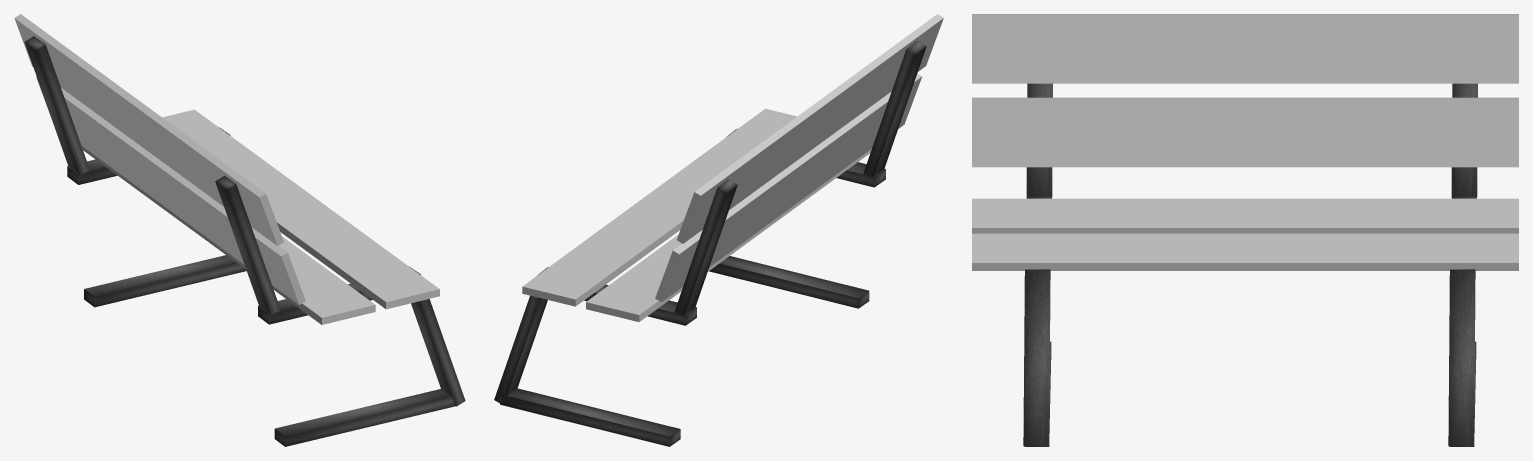
The model's file is Bench.fbx.
The picture shows the model from 3 angles, left to right: view 1: azimuth 30°, elevation 25°; view 2: azimuth 150°, elevation 25°; view 3: azimuth 270°, elevation 25°; orthographic projection. The views are drawn at different scales.
Visible parts, largest first — view 1: Cube_2, Cube__3_, Cube__2_, Cube__1__2, Cube, Cube_1, Cube__5_, Cube__5__1, Cube__1_, Cube__4_, Cube__4__1; view 2: Cube_2, Cube__3_, Cube__2_, Cube__1__2, Cube_1, Cube, Cube__5_, Cube__5__1, Cube__1__1, Cube__4__1, Cube__4_; view 3: Cube__2_, Cube__3_, Cube_2, Cube__1__2, Cube__1_, Cube__1__1, Cube__5_, Cube__5__1.
Part boxes in pixels (x1=…): Cube_2: x1=162, y1=109, x2=439, y2=309; Cube__3_: x1=14, y1=14, x2=283, y2=245; Cube__2_: x1=36, y1=77, x2=305, y2=304; Cube__1__2: x1=81, y1=146, x2=375, y2=324; Cube: x1=274, y1=389, x2=454, y2=446; Cube_1: x1=84, y1=255, x2=246, y2=307; Cube__5_: x1=215, y1=176, x2=280, y2=315; Cube__5__1: x1=24, y1=36, x2=89, y2=175; Cube__1_: x1=409, y1=266, x2=465, y2=406; Cube__4_: x1=258, y1=283, x2=372, y2=324; Cube__4__1: x1=67, y1=159, x2=117, y2=184; Cube_2: x1=522, y1=108, x2=796, y2=306; Cube__3_: x1=676, y1=14, x2=943, y2=243; Cube__2_: x1=655, y1=73, x2=922, y2=302; Cube__1__2: x1=586, y1=148, x2=871, y2=321; Cube_1: x1=500, y1=388, x2=680, y2=446; Cube: x1=709, y1=256, x2=869, y2=308; Cube__5_: x1=863, y1=40, x2=926, y2=176; Cube__5__1: x1=674, y1=179, x2=737, y2=314; Cube__1__1: x1=494, y1=267, x2=548, y2=403; Cube__4__1: x1=584, y1=284, x2=696, y2=325; Cube__4_: x1=837, y1=162, x2=885, y2=187; Cube__2_: x1=972, y1=97, x2=1518, y2=167; Cube__3_: x1=972, y1=14, x2=1518, y2=83; Cube_2: x1=972, y1=233, x2=1518, y2=270; Cube__1__2: x1=972, y1=198, x2=1518, y2=233; Cube__1_: x1=1023, y1=269, x2=1050, y2=446; Cube__1__1: x1=1448, y1=269, x2=1475, y2=446; Cube__5_: x1=1026, y1=83, x2=1052, y2=196; Cube__5__1: x1=1451, y1=83, x2=1477, y2=196.
Size of the model in its own units: 119 by 135 by 213.
